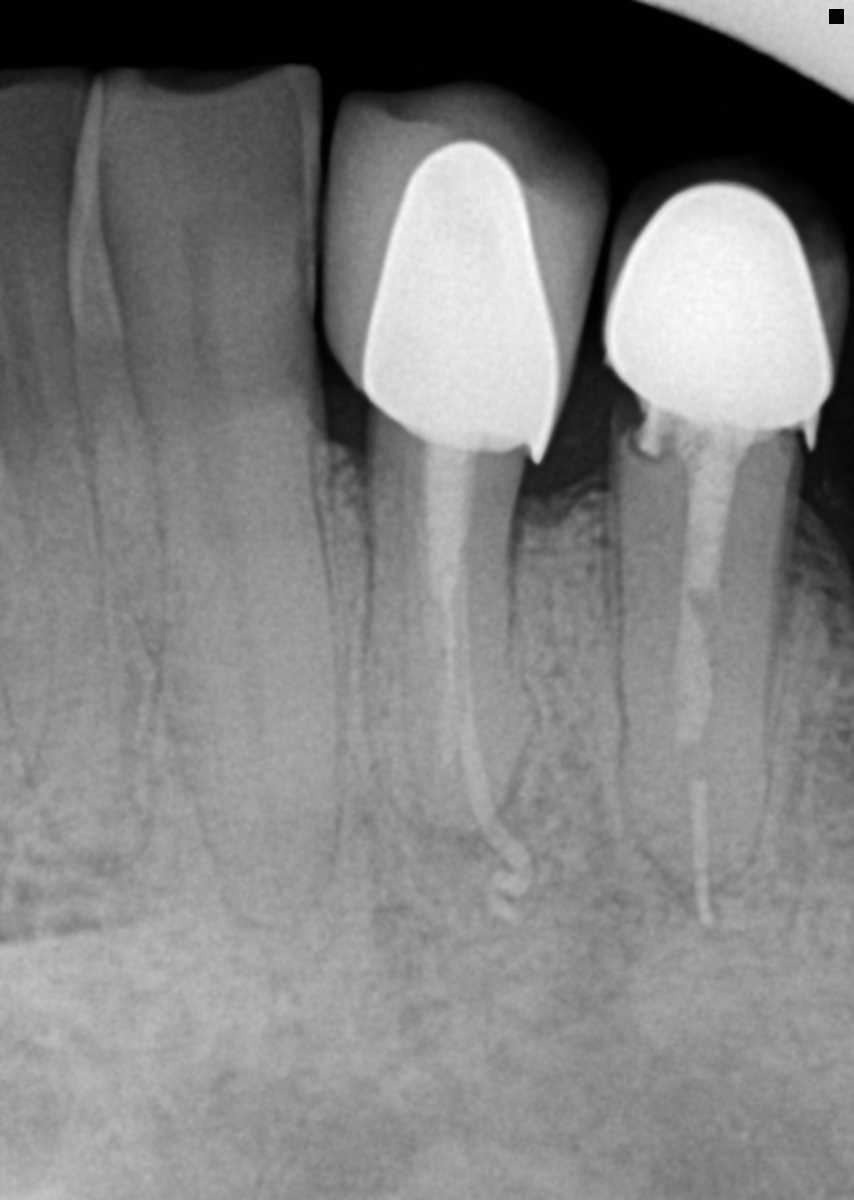Apical Lesion: (416, 753, 636, 1018)
Main Canal: (198, 453, 281, 895)
Main Root: (89, 402, 343, 927), (0, 384, 160, 881), (613, 485, 797, 884), (361, 468, 535, 842)
Root Canal Filling: (420, 451, 534, 922), (674, 489, 727, 748), (688, 783, 717, 926)
decay: (614, 379, 671, 463)
